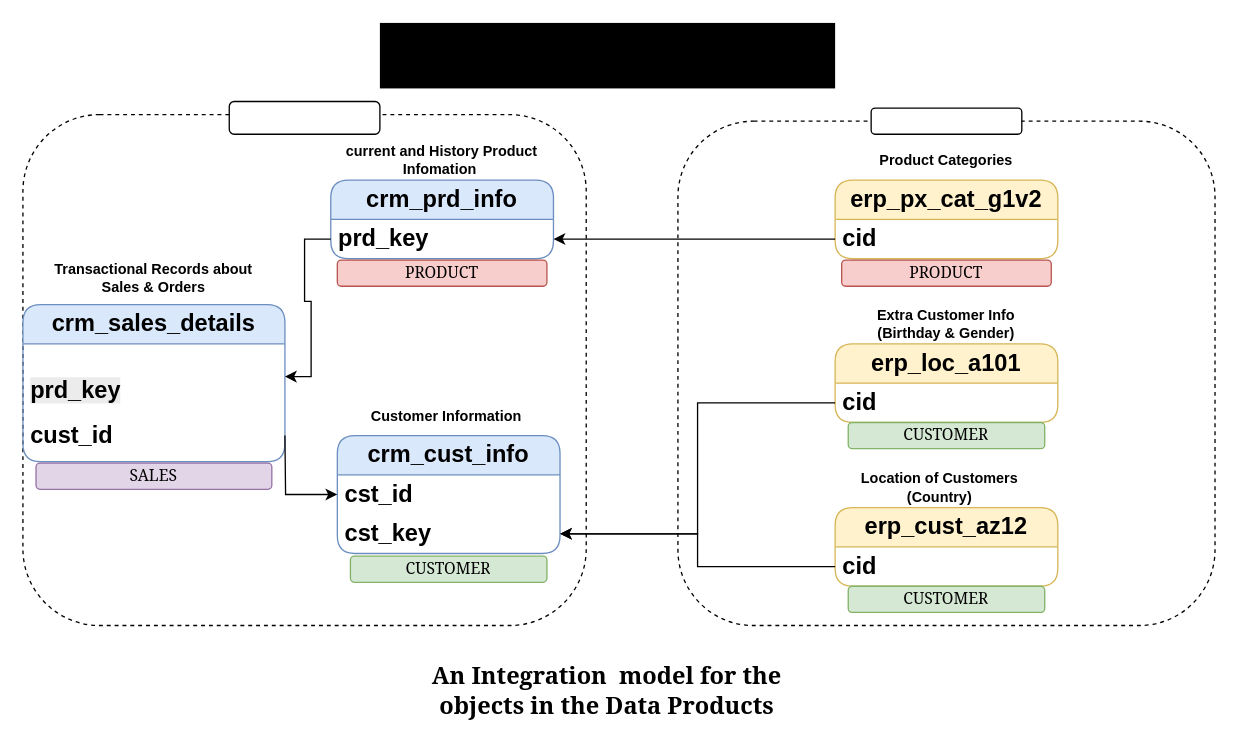
The diagram is 1238 pixels wide and 752 high, and some of its shapes have lost their labels. Here are the shapes that lost their labels. From the top down, the centre of each, then its label:
At (x=606, y=55): "INTEGRATION MODEL".
At (x=304, y=117): "CRM".
At (x=946, y=120): "ERP".
